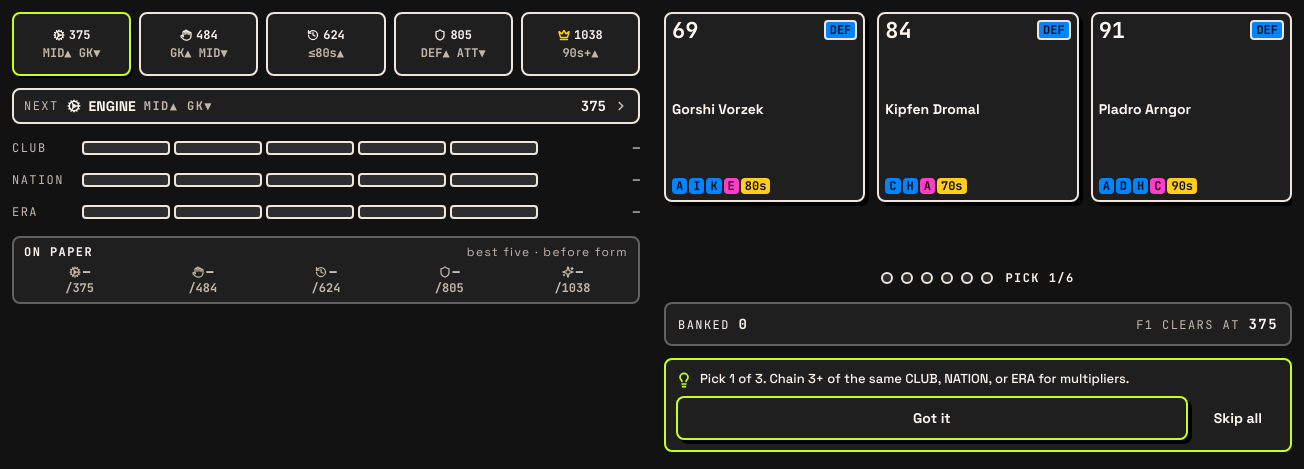
Test case: F4 — coach marks › never shows a mark again once dismissed — across remounts
Click the button with test id "draw-coach-draft-got-it": (932, 418) [676, 396, 1188, 440]
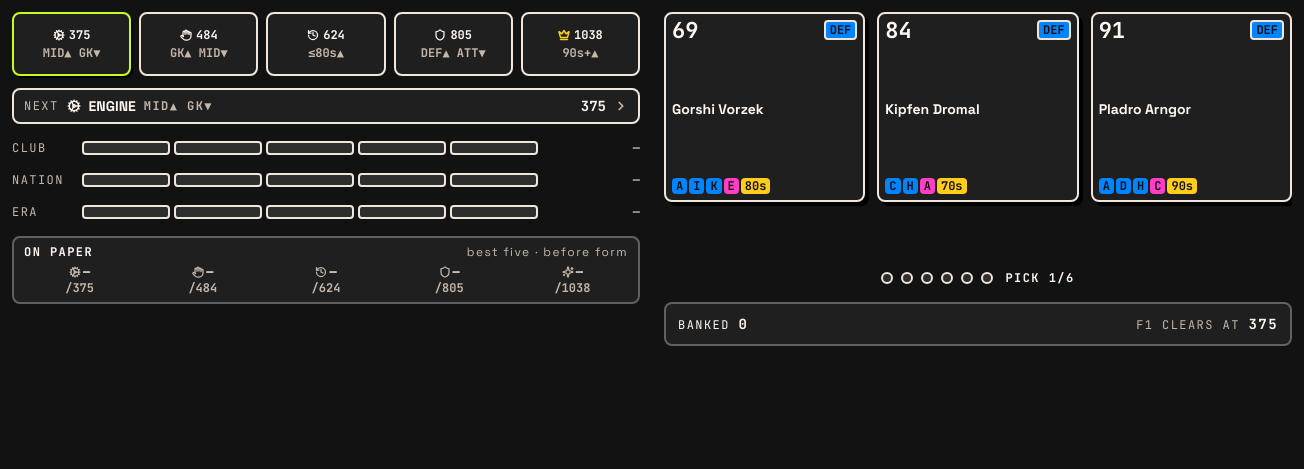
Check: the message with test id "draw-coach-draft" is gone
